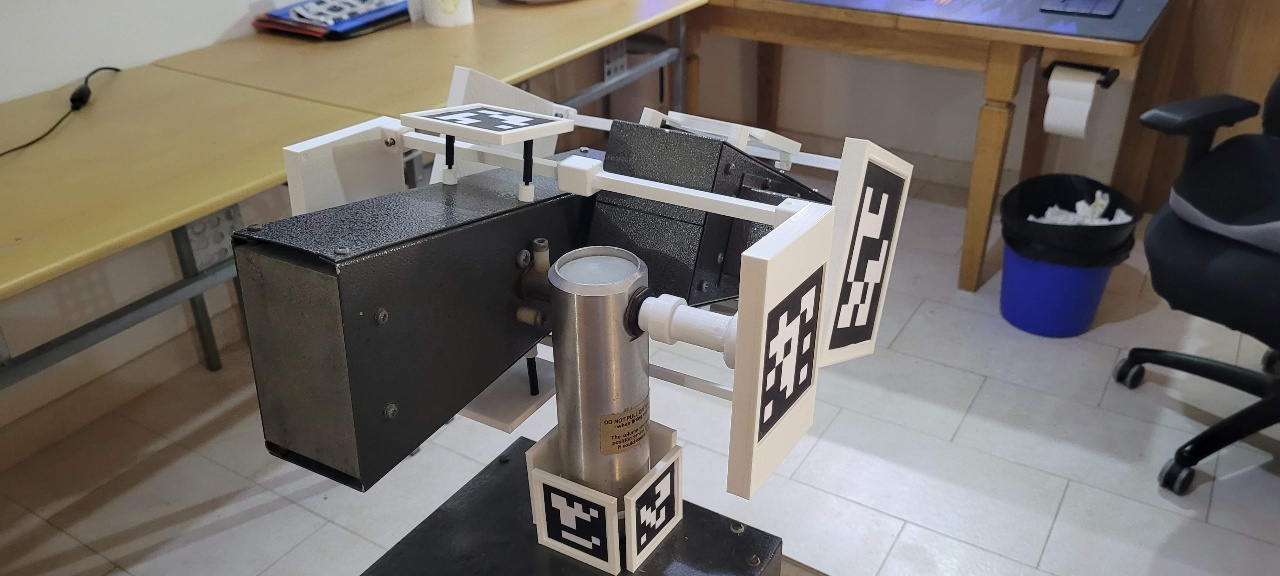Robot: (400, 25, 767, 576)
